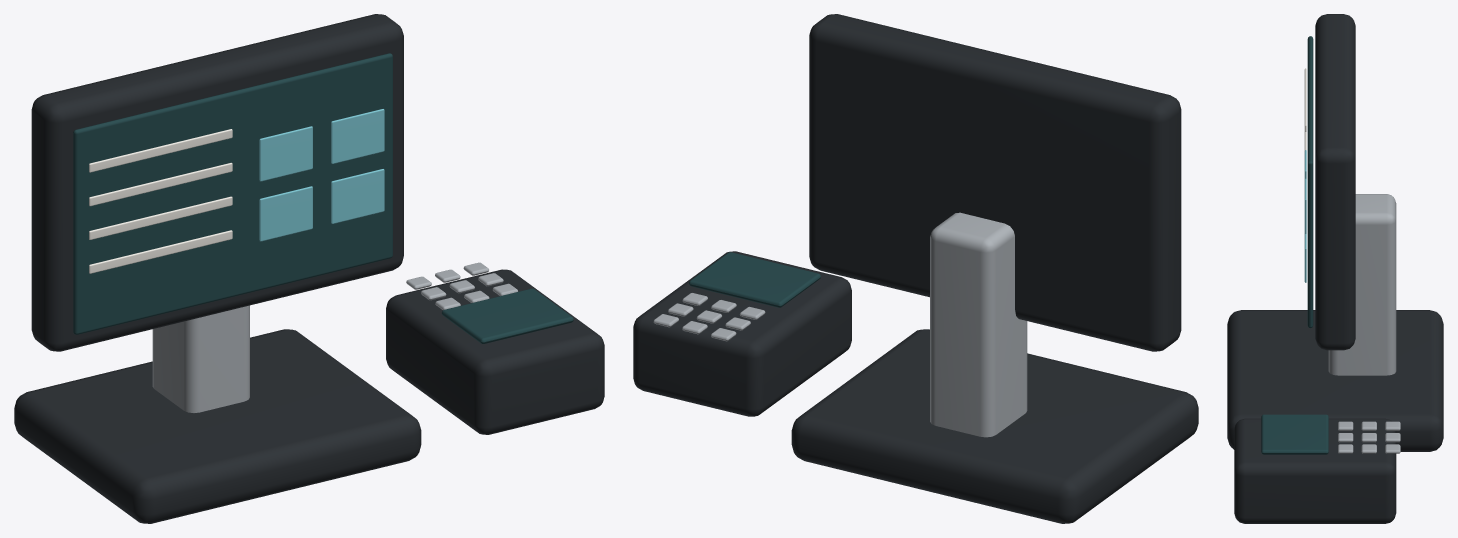
Rendered from checkout-terminal.glb.
The picture shows the model from 3 angles, left to right: view 1: azimuth 30°, elevation 25°; view 2: azimuth 150°, elevation 25°; view 3: azimuth 270°, elevation 25°; orthographic projection. The views are drawn at different scales.
Visible parts, largest first — view 1: DisplayGlass, Base, Display, CardReader, Stand, ReaderDisplay, CheckoutUI, CheckoutUI.001, CheckoutUI.002, CheckoutUI.003, ReceiptLine, ReceiptLine.001 (+2 smaller); view 2: Display, Base, CardReader, Stand, ReaderDisplay; view 3: Base, CardReader, Display, Stand, ReaderDisplay, DisplayGlass.
Part boxes in pixels (x1,y1,x2,y2): DisplayGlass: (73, 53, 392, 334); Base: (14, 329, 421, 523); Display: (31, 14, 403, 351); CardReader: (386, 269, 604, 434); Stand: (152, 305, 249, 412); ReaderDisplay: (442, 288, 573, 343); CheckoutUI: (259, 126, 312, 181); CheckoutUI.001: (259, 186, 312, 241); CheckoutUI.002: (331, 109, 384, 163); CheckoutUI.003: (331, 169, 384, 223); ReceiptLine: (89, 129, 232, 172); ReceiptLine.001: (89, 162, 232, 206); Display: (809, 14, 1181, 351); Base: (791, 329, 1198, 523); CardReader: (633, 251, 851, 416); Stand: (930, 212, 1027, 437); ReaderDisplay: (689, 252, 820, 307); Base: (1227, 310, 1443, 451); CardReader: (1234, 418, 1396, 523); Display: (1315, 14, 1355, 350); Stand: (1328, 194, 1396, 375); ReaderDisplay: (1261, 414, 1328, 454); DisplayGlass: (1307, 36, 1313, 328).
Bounding box in the file's own units: 0.71 × 0.52 × 0.32.
